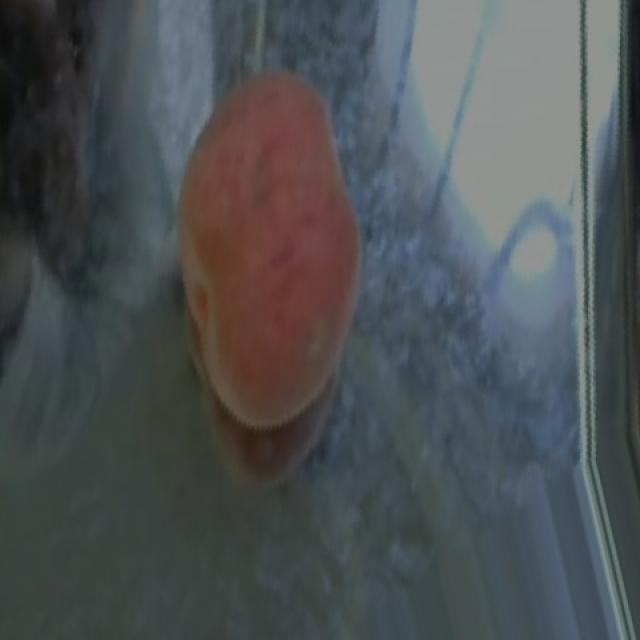Fruit: (157, 56, 380, 352)
